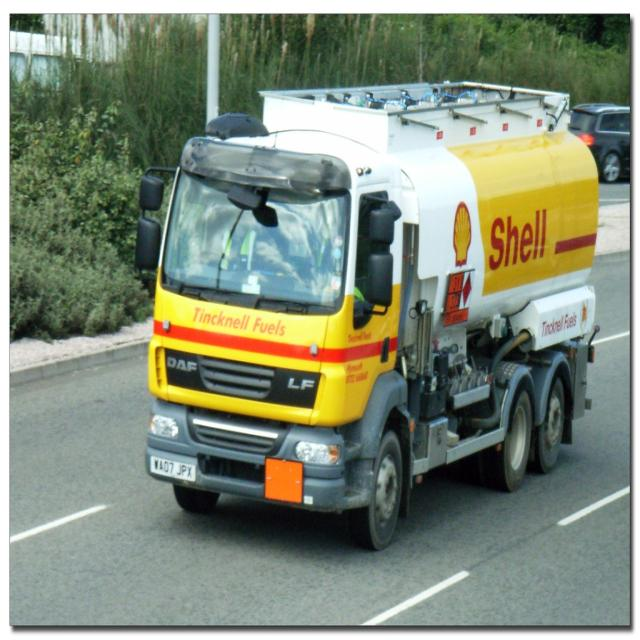shell: (454, 205, 474, 270)
